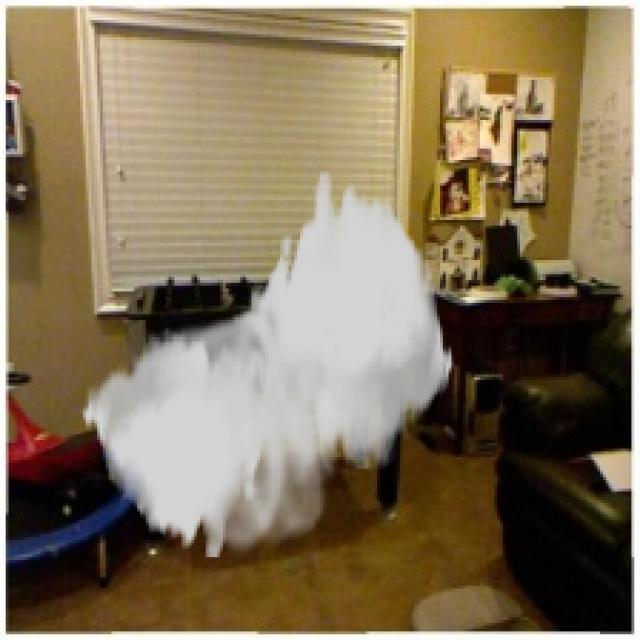Smoke: (80, 171, 454, 560)
